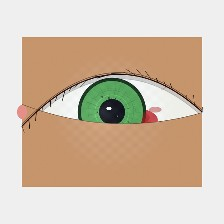hemorrhage_spot: (92, 90, 168, 150)
